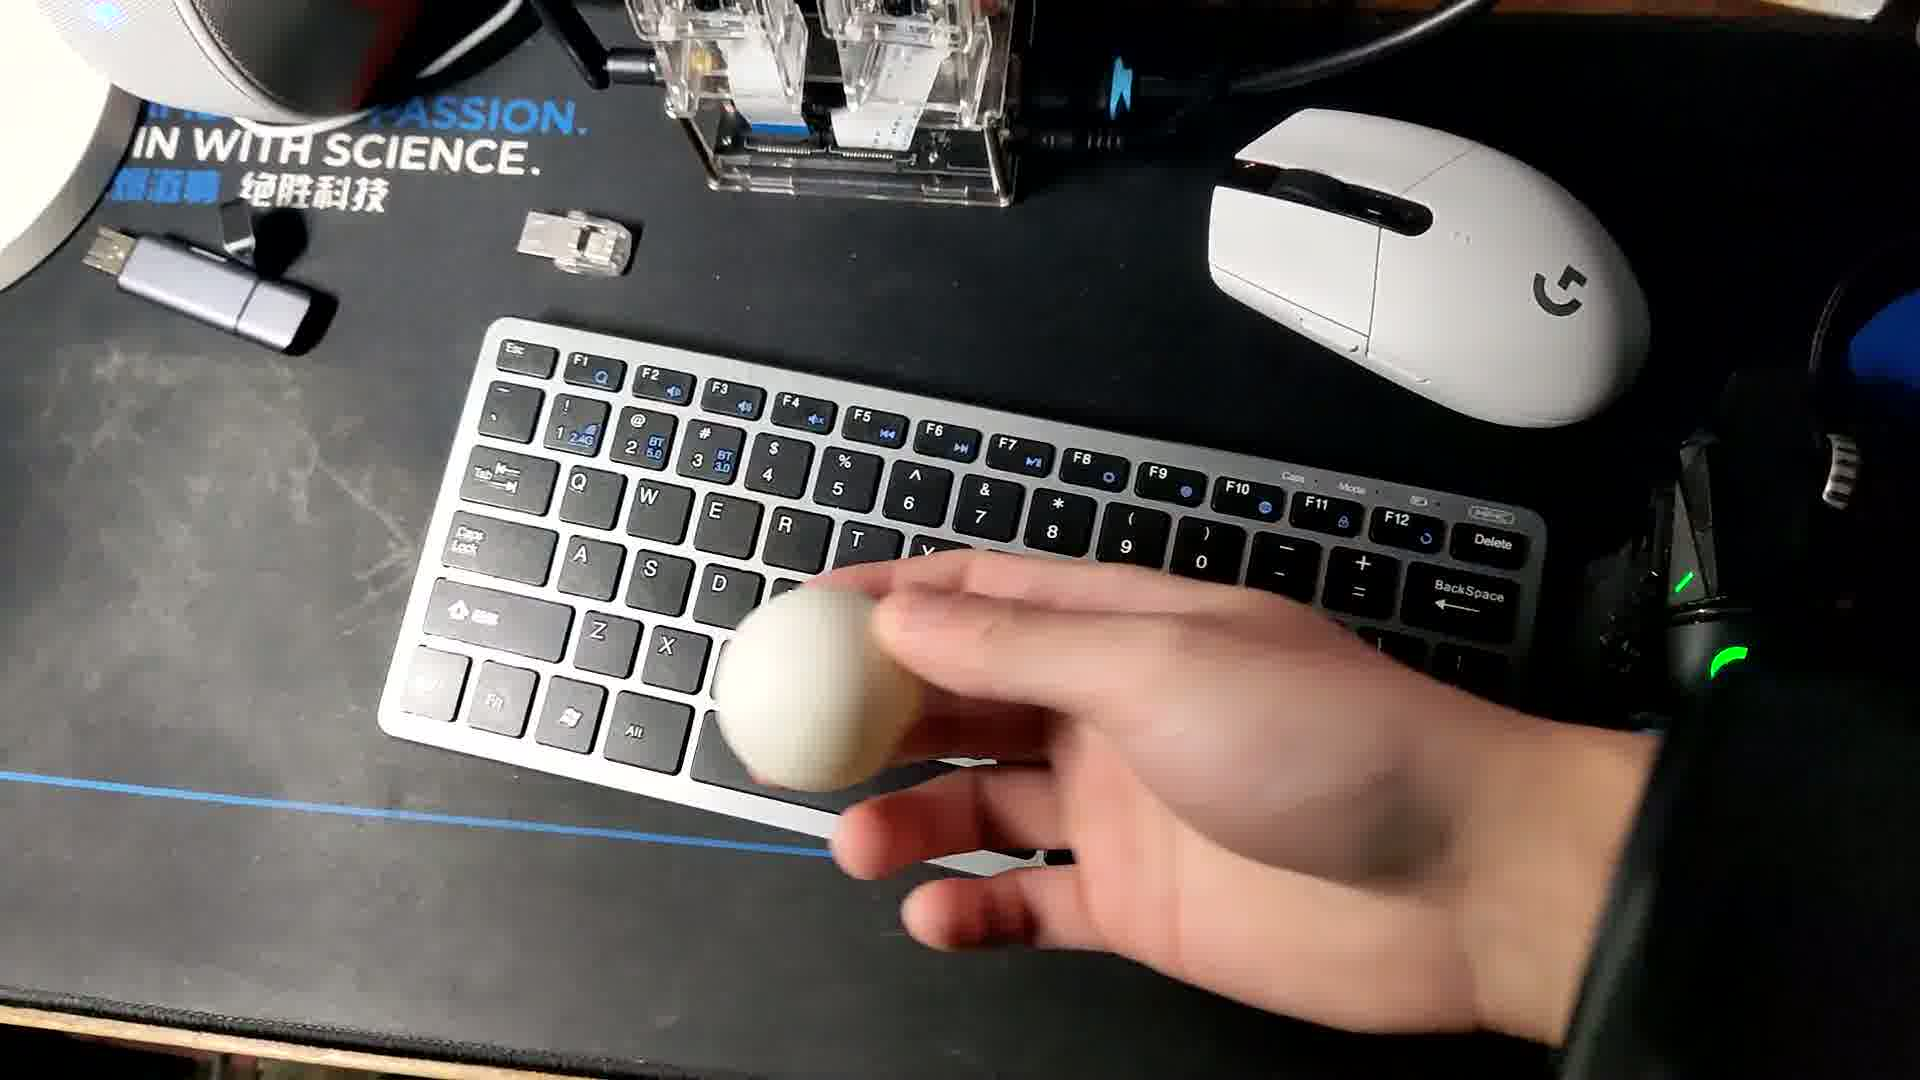Ball: (713, 585, 920, 794)
